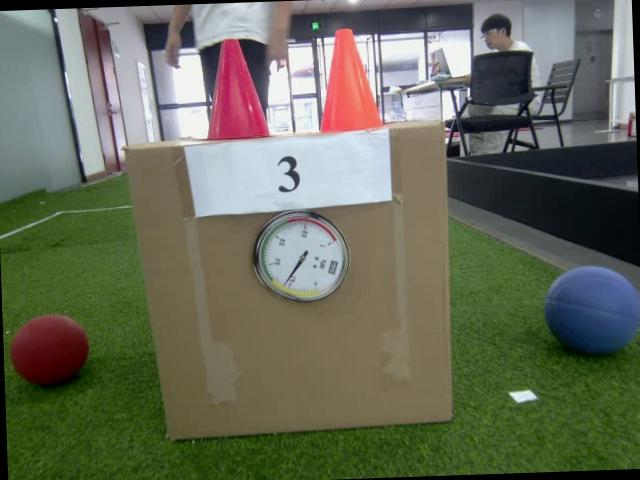3: (276, 154, 300, 194)
Dashboard: (250, 210, 352, 304)
blue_ball: (541, 264, 640, 359)
orange_barrel: (306, 22, 394, 136)
red_ball: (9, 314, 91, 390)
red_barrel: (180, 36, 282, 142)
ssi: (328, 258, 338, 276)
